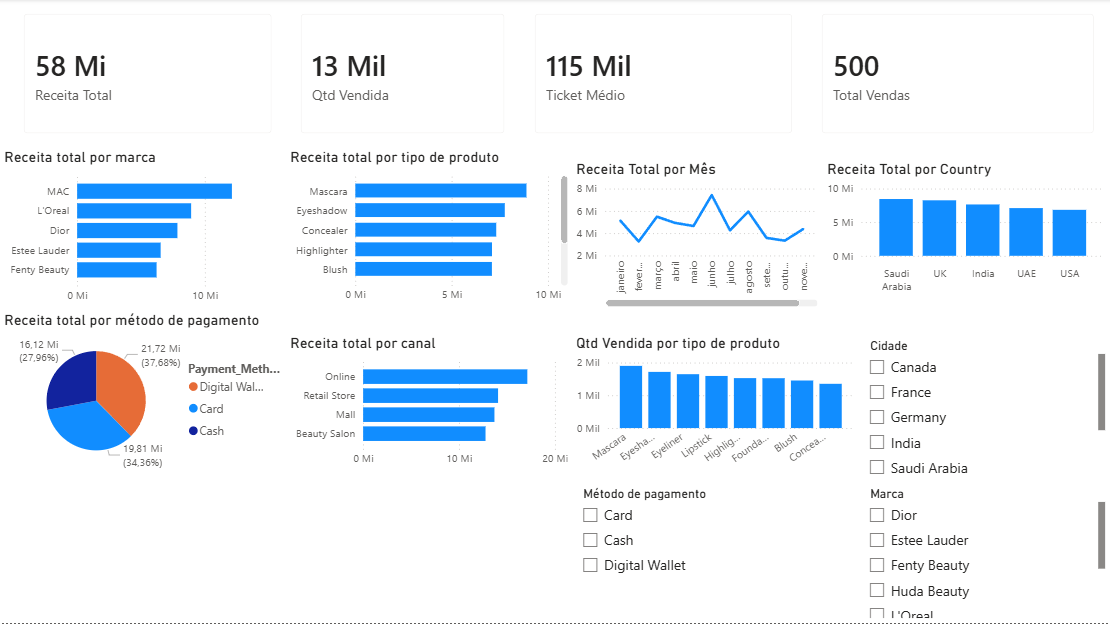

What the dashboard file says about the page in this screenshot:
{"tool":"powerbi","page":{"name":"Página 1","canvas":[1280,720],"ordinal":0},"visuals":[{"type":"cardVisual","fields":{"Data":["makeup_sales_dataset_2025.Receita Total"]},"box":[10.3,0,320,172.2],"z":0},{"type":"cardVisual","fields":{"Data":["makeup_sales_dataset_2025.Qtd Vendida"]},"box":[330.3,0,269.9,172.2],"z":1000},{"type":"cardVisual","fields":{"Data":["makeup_sales_dataset_2025.Ticket Médio"]},"box":[600.2,0,331.6,172.2],"z":2000},{"type":"cardVisual","fields":{"Data":["makeup_sales_dataset_2025.Total Vendas"]},"box":[931.7,0,348.3,172.2],"z":3000},{"type":"barChart","title":"Receita total por marca","fields":{"Category":["makeup_sales_dataset_2025.Brand"],"Y":["makeup_sales_dataset_2025.Receita Total"]},"box":[0,171.9,330,188.1],"z":4000},{"type":"pieChart","title":"Receita total por método de pagamento","fields":{"Category":["makeup_sales_dataset_2025.Payment_Method"],"Y":["makeup_sales_dataset_2025.Receita Total"]},"box":[0,360,330,188.1],"z":6000},{"type":"barChart","title":"Receita total por canal","fields":{"Category":["makeup_sales_dataset_2025.Sales_Channel"],"Y":["makeup_sales_dataset_2025.Receita Total"]},"box":[330.3,386.8,330.3,161.9],"z":7000},{"type":"columnChart","title":"Qtd Vendida por tipo de produto","fields":{"Category":["makeup_sales_dataset_2025.Product_Type"],"Y":["makeup_sales_dataset_2025.Qtd Vendida"]},"box":[660,386.5,330,161.5],"z":8000},{"type":"barChart","title":"Receita total por tipo de produto","fields":{"Category":["makeup_sales_dataset_2025.Product_Type"],"Y":["makeup_sales_dataset_2025.Receita Total"]},"box":[330.3,172.2,330.3,187.6],"z":9000},{"type":"slicer","fields":{"Values":["makeup_sales_dataset_2025.Country"]},"box":[990.8,386.8,289.2,170.9],"z":10000},{"type":"slicer","fields":{"Values":["makeup_sales_dataset_2025.Brand"]},"box":[990.8,557.8,289.2,161.9],"z":11000},{"type":"slicer","fields":{"Values":["makeup_sales_dataset_2025.Payment_Method"]},"box":[660.6,557.8,329,161.9],"z":12000},{"type":"lineChart","fields":{"Category":["makeup_sales_dataset_2025.Date.Variation.Hierarquia de datas.Mês"],"Y":["makeup_sales_dataset_2025.Receita Total"]},"box":[660,185.8,288.5,174.2],"z":13000},{"type":"columnChart","fields":{"Category":["makeup_sales_dataset_2025.Country"],"Y":["makeup_sales_dataset_2025.Receita Total"]},"box":[949.6,185.8,330,161.5],"z":13001}]}

Visuals, with their boxes in screenshot pixels (x1, y1, x2, y2), scaled from the page's 1280x720 canvas onto the 1110x624 screenshot:
cardVisual - makeup_sales_dataset_2025.Receita Total: <region>9, 0, 286, 149</region>
cardVisual - makeup_sales_dataset_2025.Qtd Vendida: <region>286, 0, 520, 149</region>
cardVisual - makeup_sales_dataset_2025.Ticket Médio: <region>520, 0, 808, 149</region>
cardVisual - makeup_sales_dataset_2025.Total Vendas: <region>808, 0, 1109, 149</region>
"Receita total por marca" barChart: <region>0, 149, 286, 312</region>
"Receita total por método de pagamento" pieChart: <region>0, 312, 286, 475</region>
"Receita total por canal" barChart: <region>286, 335, 573, 476</region>
"Qtd Vendida por tipo de produto" columnChart: <region>572, 335, 859, 475</region>
"Receita total por tipo de produto" barChart: <region>286, 149, 573, 312</region>
slicer - makeup_sales_dataset_2025.Country: <region>859, 335, 1109, 483</region>
slicer - makeup_sales_dataset_2025.Brand: <region>859, 483, 1109, 623</region>
slicer - makeup_sales_dataset_2025.Payment_Method: <region>573, 483, 858, 623</region>
lineChart - makeup_sales_dataset_2025.Date.Variation.Hierarquia de datas.Mês x makeup_sales_dataset_2025.Receita Total: <region>572, 161, 823, 312</region>
columnChart - makeup_sales_dataset_2025.Country x makeup_sales_dataset_2025.Receita Total: <region>823, 161, 1109, 301</region>
